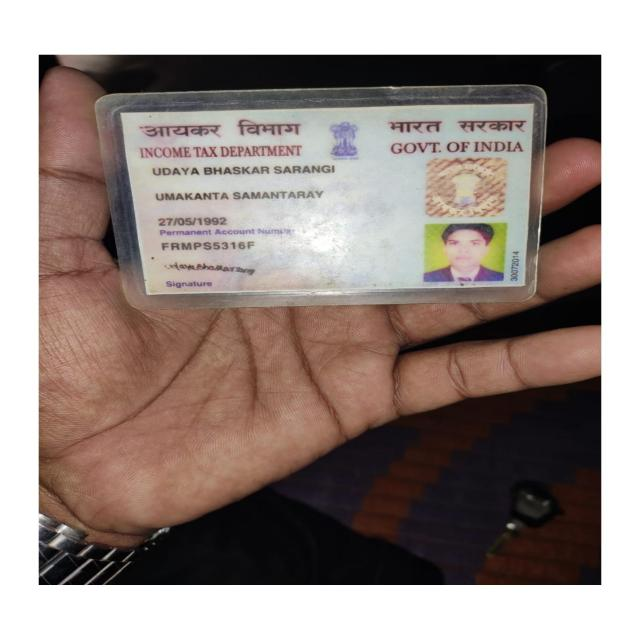pan_card: (120, 106, 533, 294)
